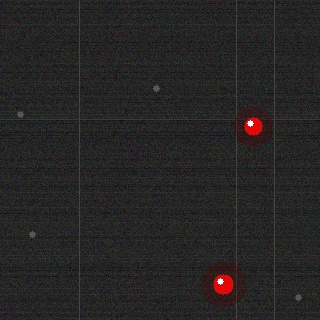red_fault: (211, 272, 235, 296), (242, 115, 264, 137)
